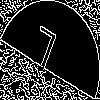L: (25, 25, 59, 78)
